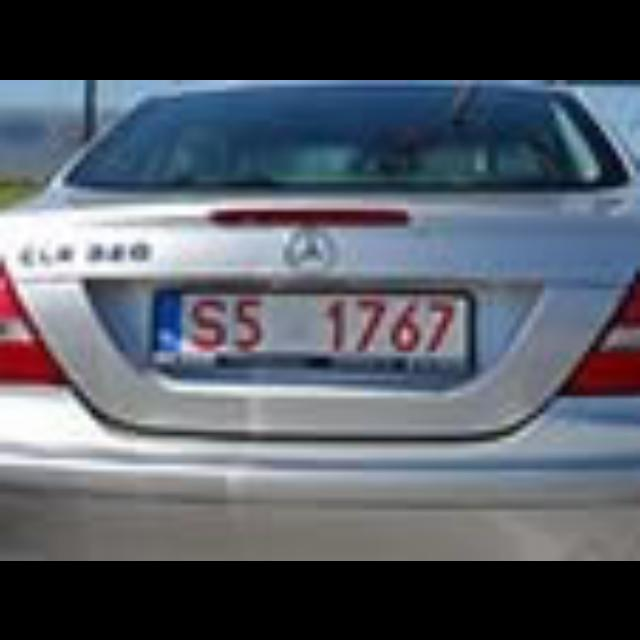pl_license_plate: (148, 284, 464, 350)
